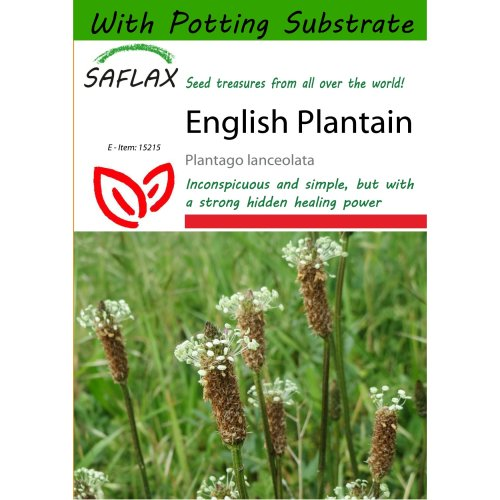buckhorn plantain: (224, 273, 298, 499), (175, 324, 277, 482), (282, 233, 349, 448), (80, 298, 146, 410), (365, 379, 404, 495)
